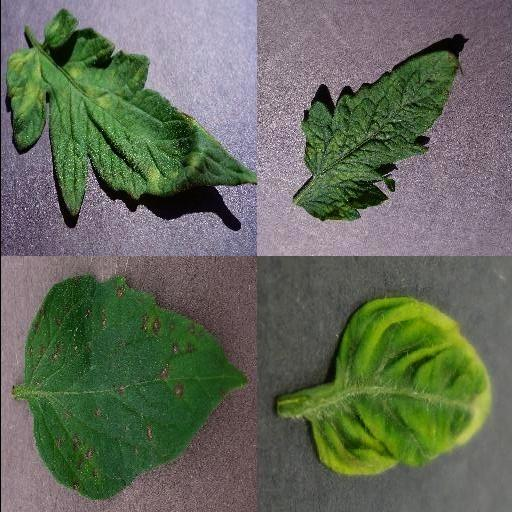Leaf Mold: (5, 8, 255, 218)
Mosaic Virus: (298, 51, 462, 223)
Septoria: (24, 276, 250, 502)
Yellow Leaf Curl Virus: (307, 295, 491, 477)
